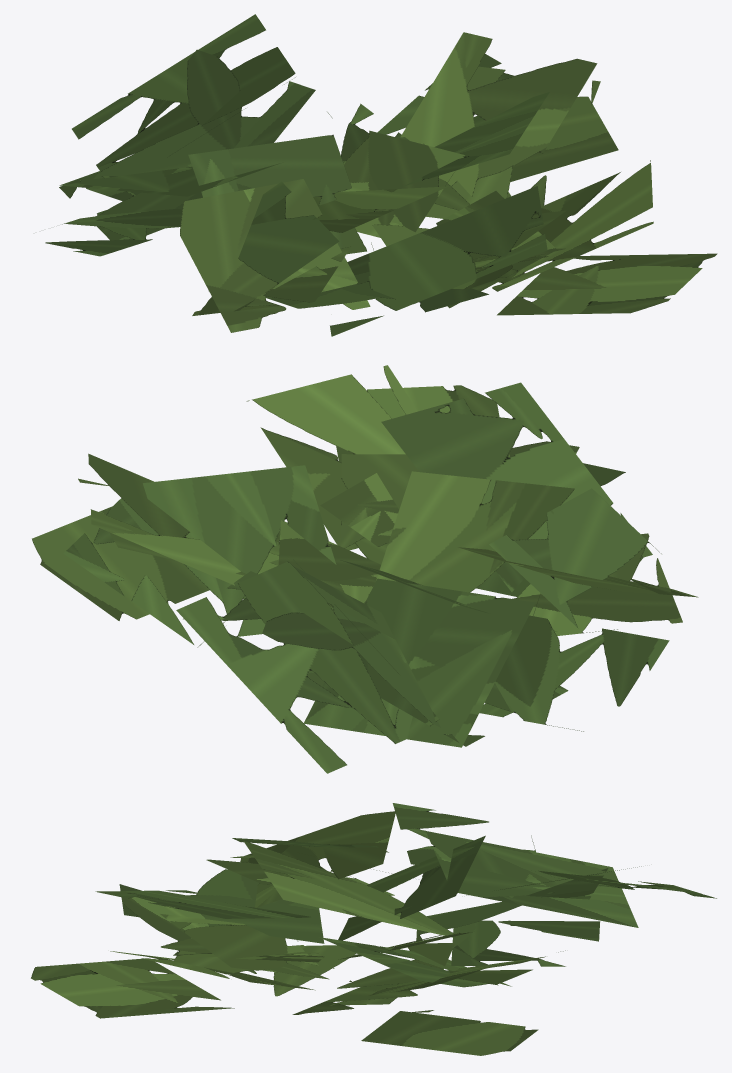
The model's file is nature.grass.patch.glb.
3 renders of one model, top to bottom at view 1: azimuth 30°, elevation 25°; view 2: azimuth 150°, elevation 25°; view 3: azimuth 270°, elevation 25°, orthographic. The views are drawn at different scales.
Visible parts, largest first — view 1: nature.grass.patch; view 2: nature.grass.patch; view 3: nature.grass.patch.
Part boxes in pixels (box(x1,y1,x2,y2)): nature.grass.patch: box(45, 14, 717, 336); nature.grass.patch: box(32, 365, 698, 773); nature.grass.patch: box(31, 803, 716, 1055).
Bounding box in the file's own units: 2.1 × 0.3341 × 2.41.
Materials: 2 (2 with a texture image).
